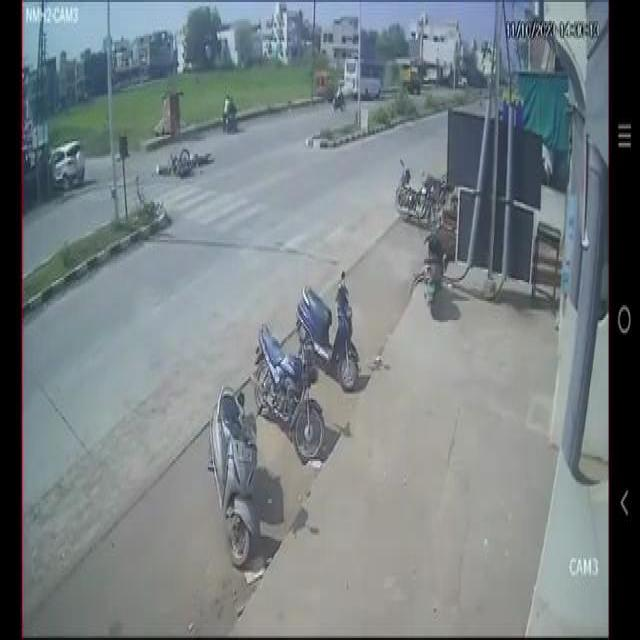accident: (151, 136, 214, 190)
